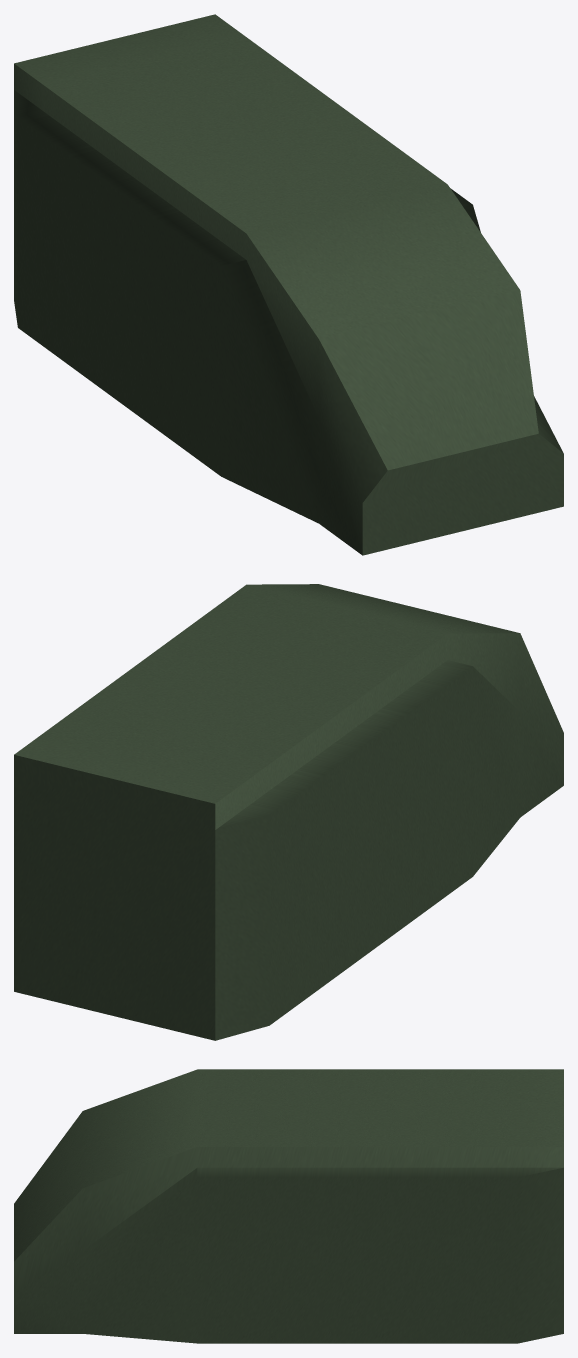
3 views of the same model, one above another, from view 1: azimuth 30°, elevation 25°; view 2: azimuth 150°, elevation 25°; view 3: azimuth 270°, elevation 25° (orthographic). The views are drawn at different scales.
Bounding box in the file's own units: 2.4 × 2.16 × 5.76.
1 material, 1 textured.
